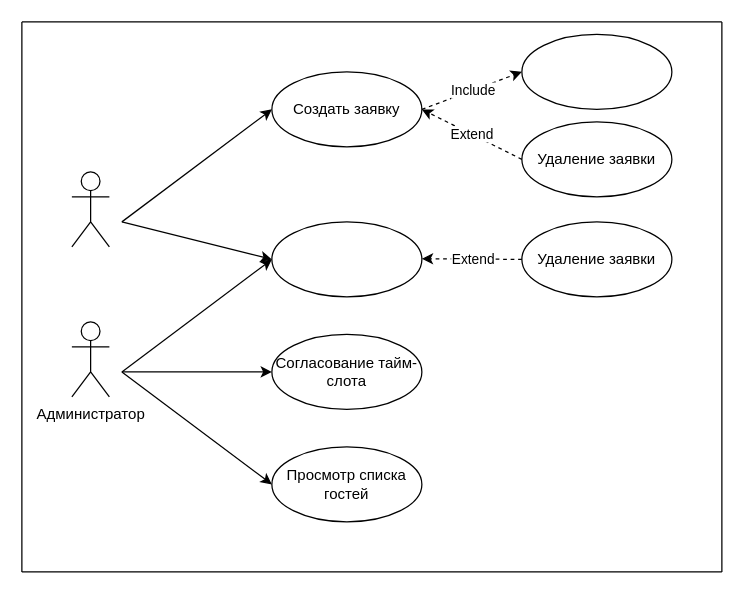
This 745x595 diagram has some shape labels left out. The box of each missing label's shape, as (x1, y1, x2, y2) in pixels:
Гость: (71, 171, 109, 247)
Добавить тайм-слот: (521, 33, 672, 109)
Просмотр списка заявок: (271, 221, 422, 297)
